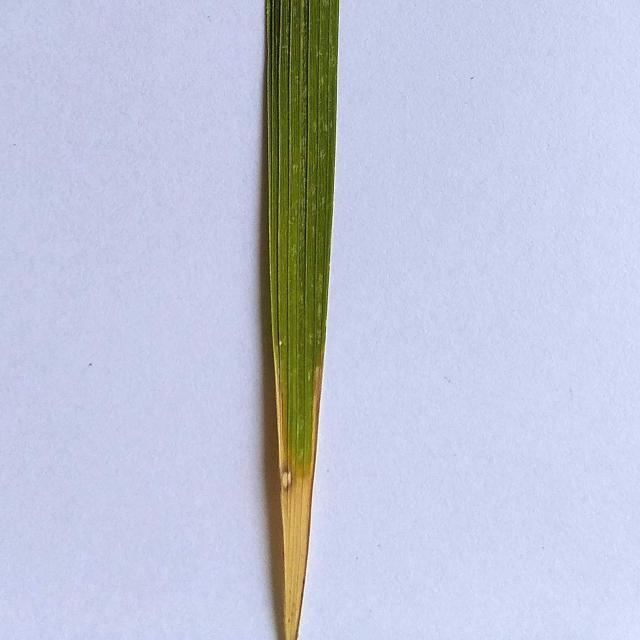Blast: (281, 468, 302, 501)
